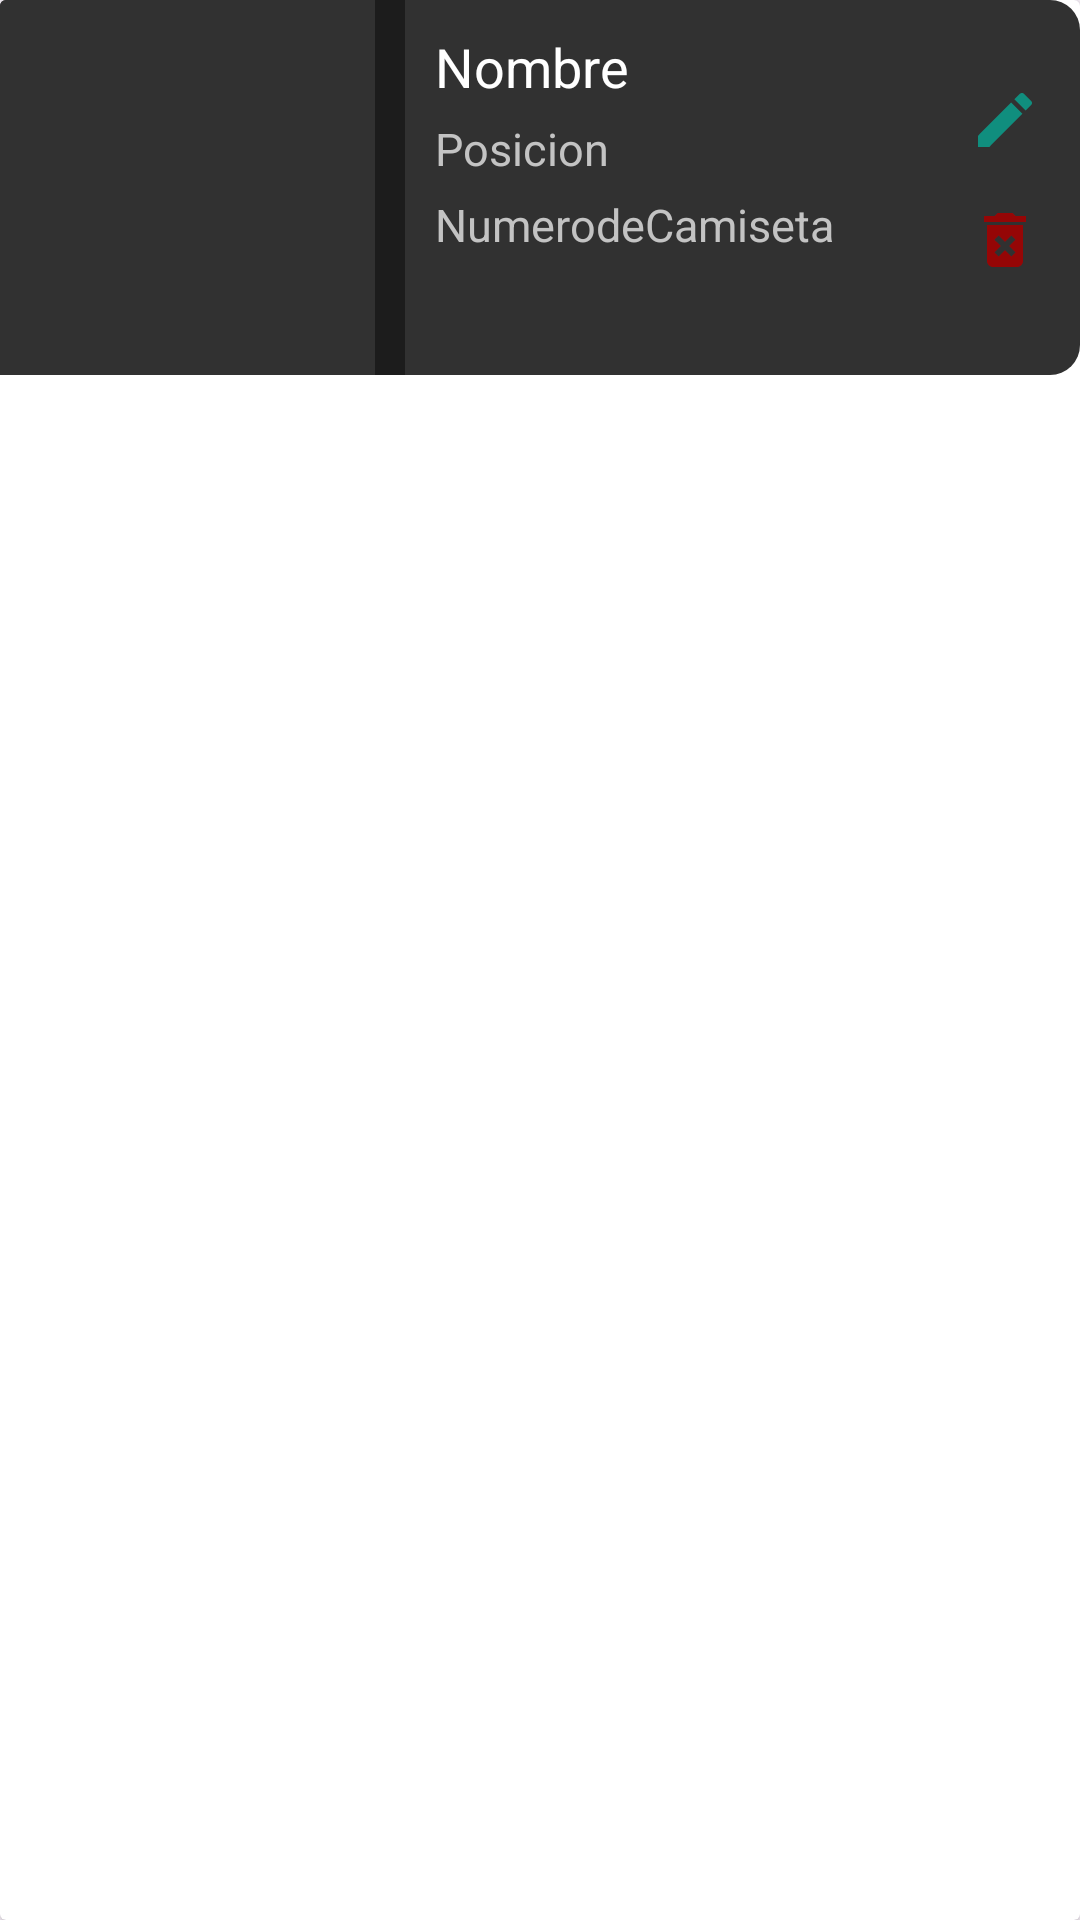

Named icons in this screenshot (1080x1920) and their bounding boxes, (x1, y1, x2, y2):
editar: (978, 93, 1032, 147)
eliminar: (984, 213, 1026, 267)
